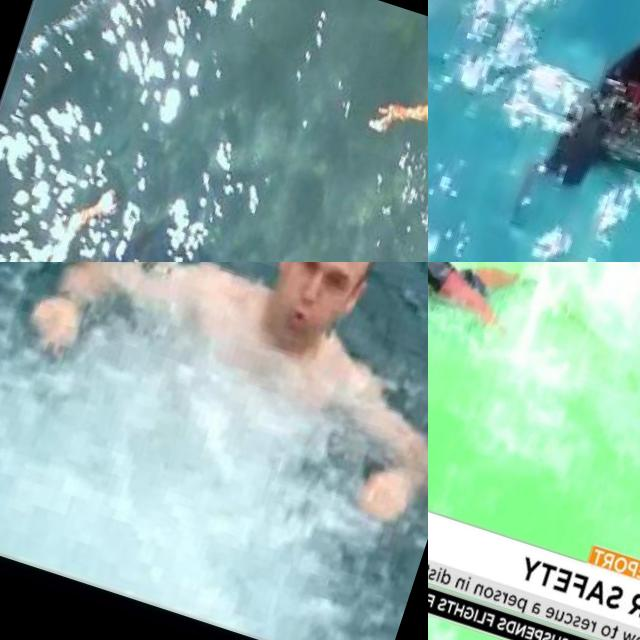drowning: (510, 0, 640, 257)
swimming: (0, 262, 428, 555), (0, 158, 200, 262), (428, 262, 594, 363)
